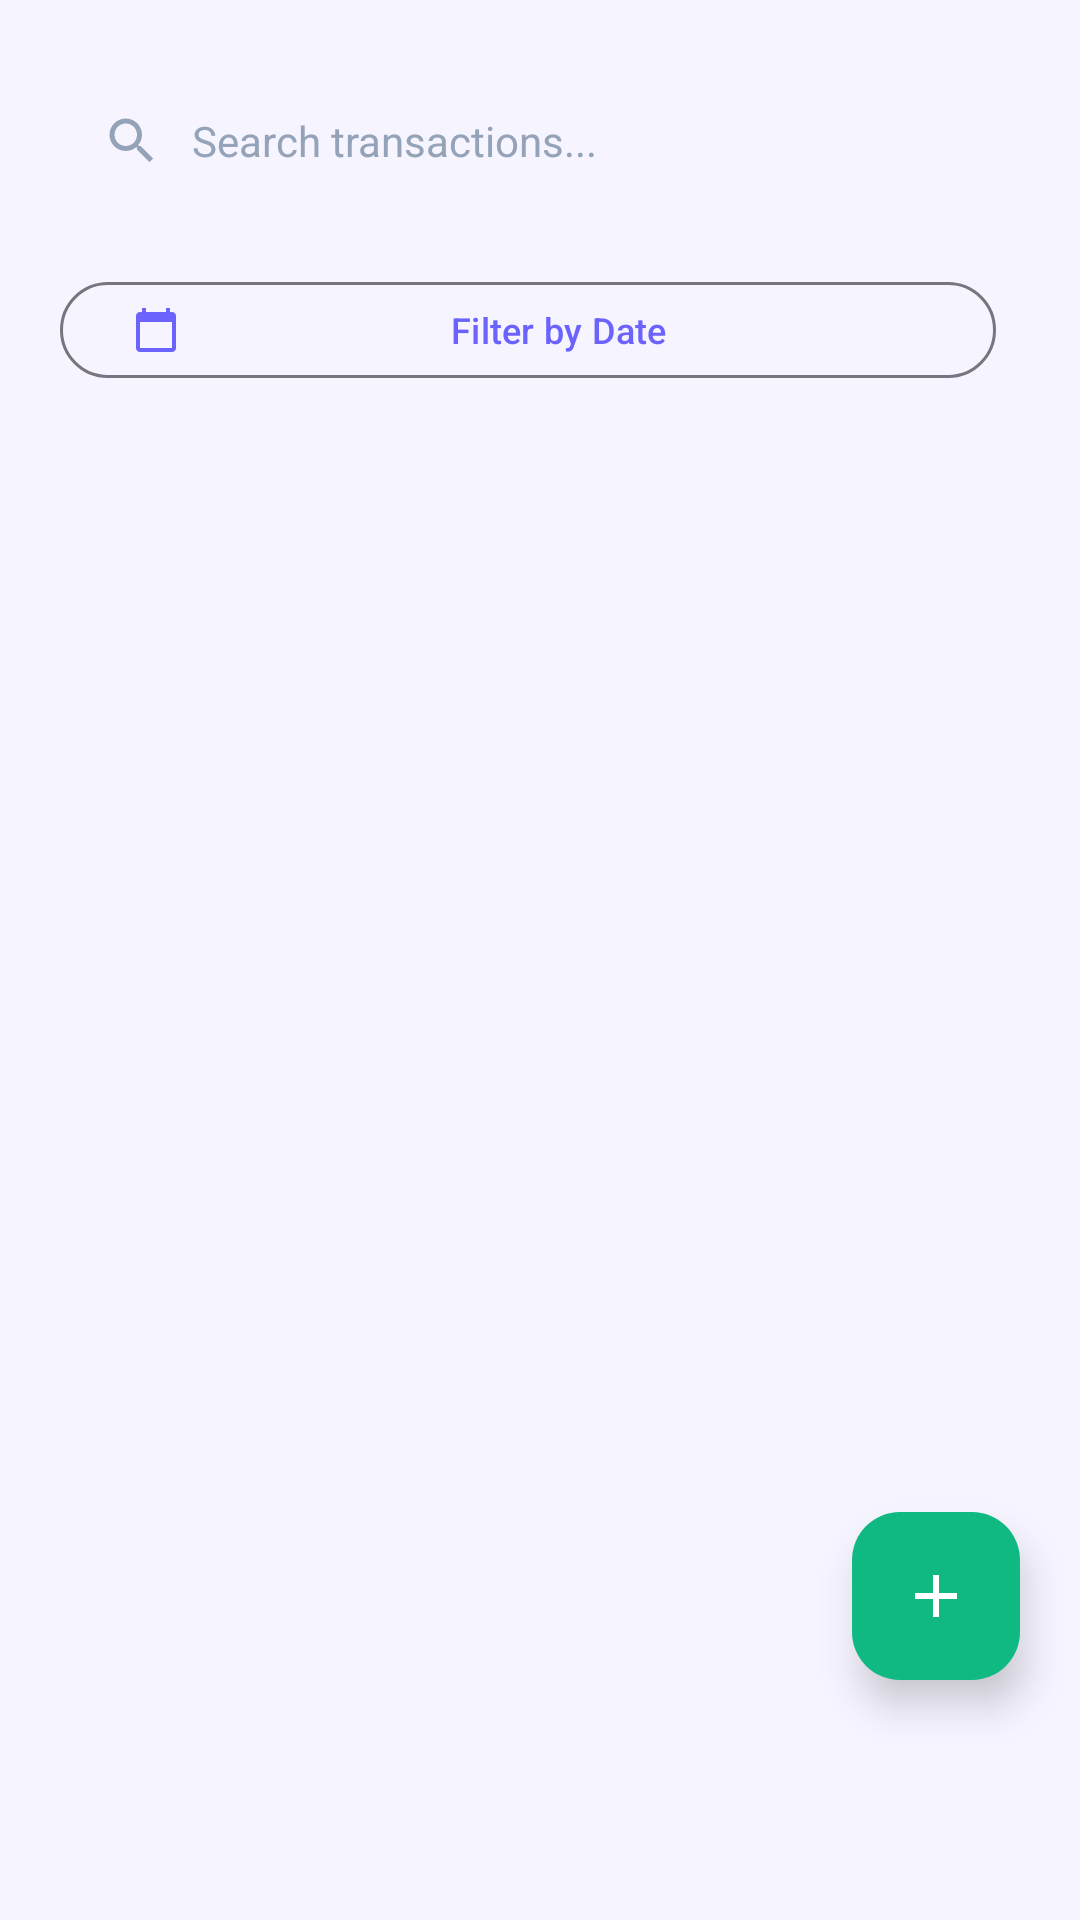

Icons on this 1080*1920 Android screen, each with the point to tap as point (x, y):
Add Income: point (936, 1596)
